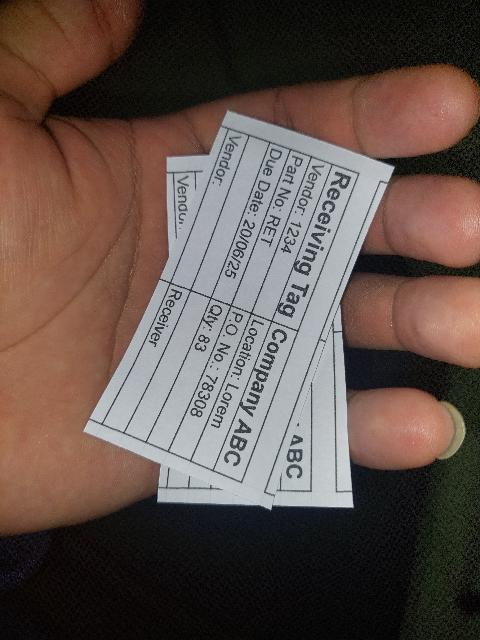PO no: (169, 305, 251, 461)
part no: (231, 150, 312, 313)
qty: (145, 298, 231, 452)
tags: (85, 111, 393, 507)
